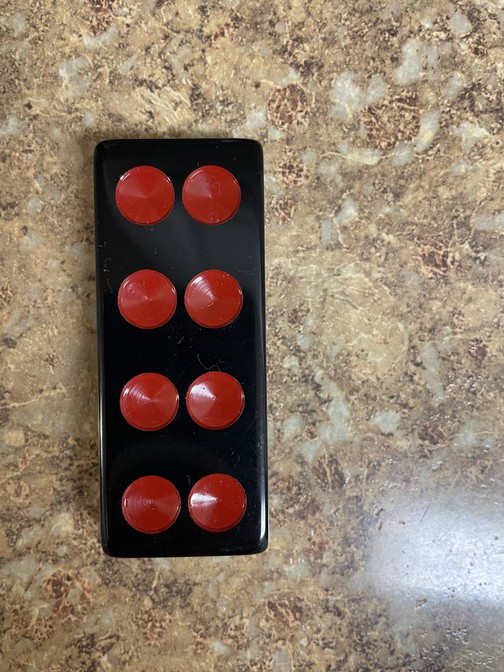man: (97, 142, 273, 556)
